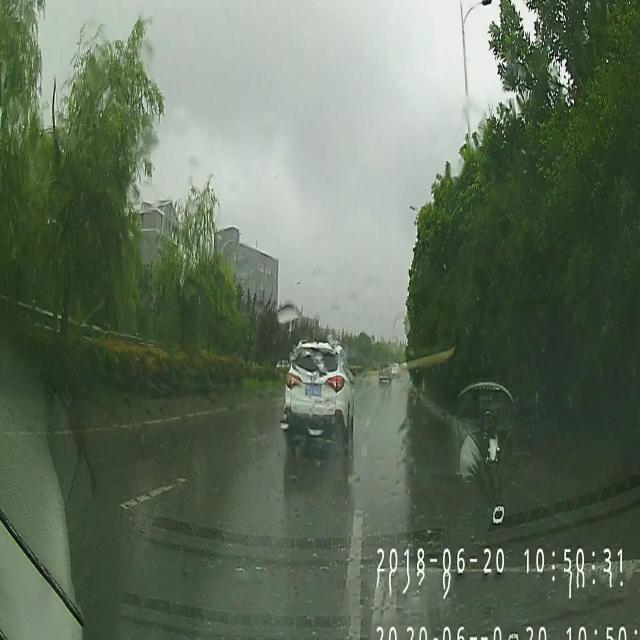car: (282, 338, 354, 458), (378, 358, 390, 385), (392, 362, 401, 379)
